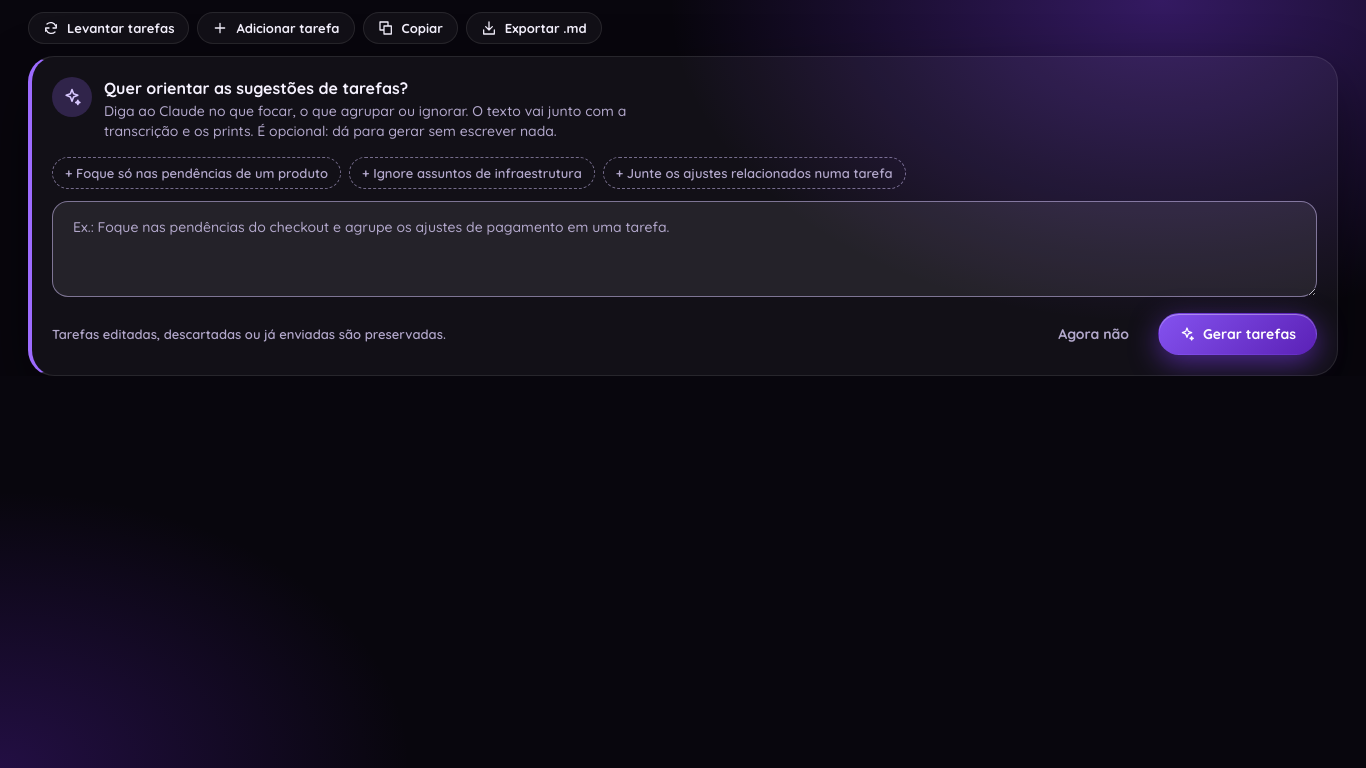
Scenario: TasksTab › 'Agora não' esconde a caixa e deixa o contexto recolhido, preservando o texto
The image size is (1366, 768).
Replace the text in the text box labelled "Quer orientar as sugestões de tarefas?" with "Foque no checkout." at (684, 249), box [52, 201, 1317, 297]
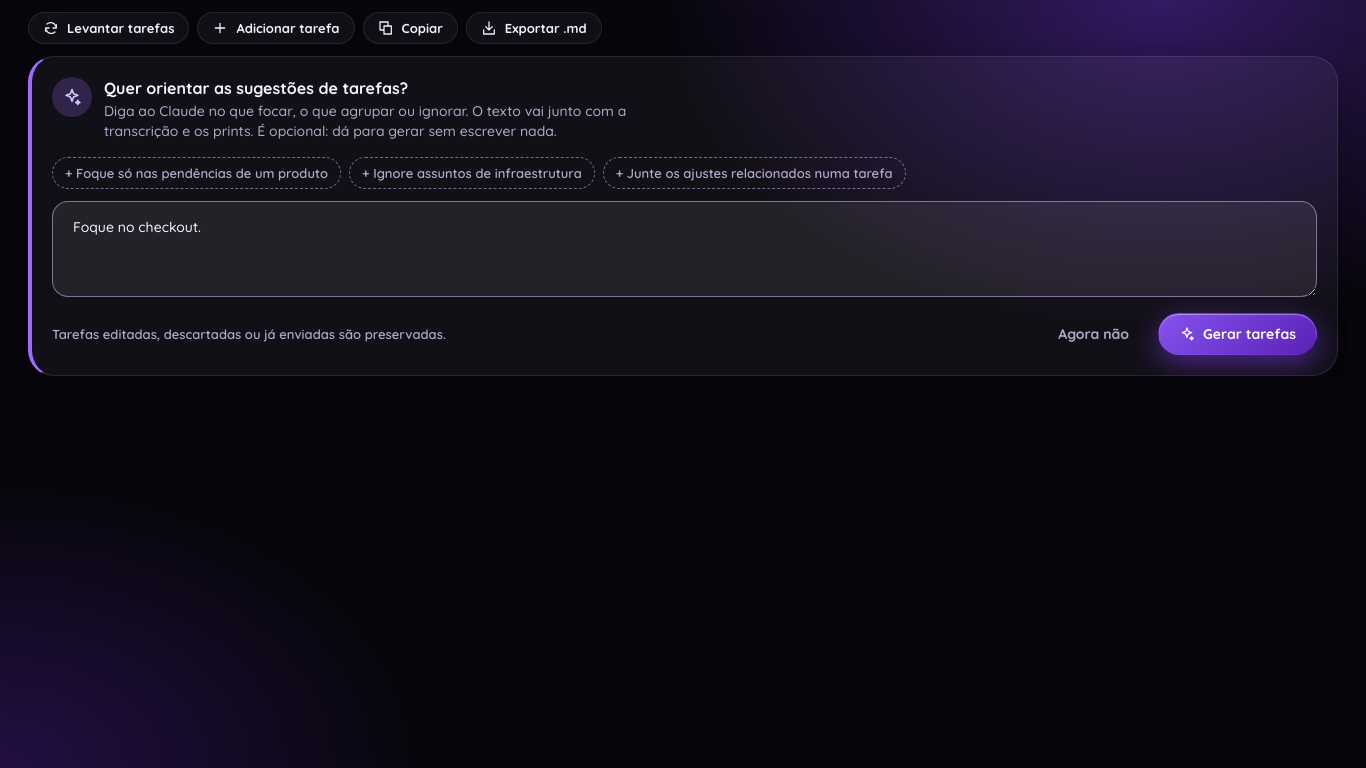
Click the button "Agora não".
click(1094, 334)  # box [1037, 313, 1150, 355]
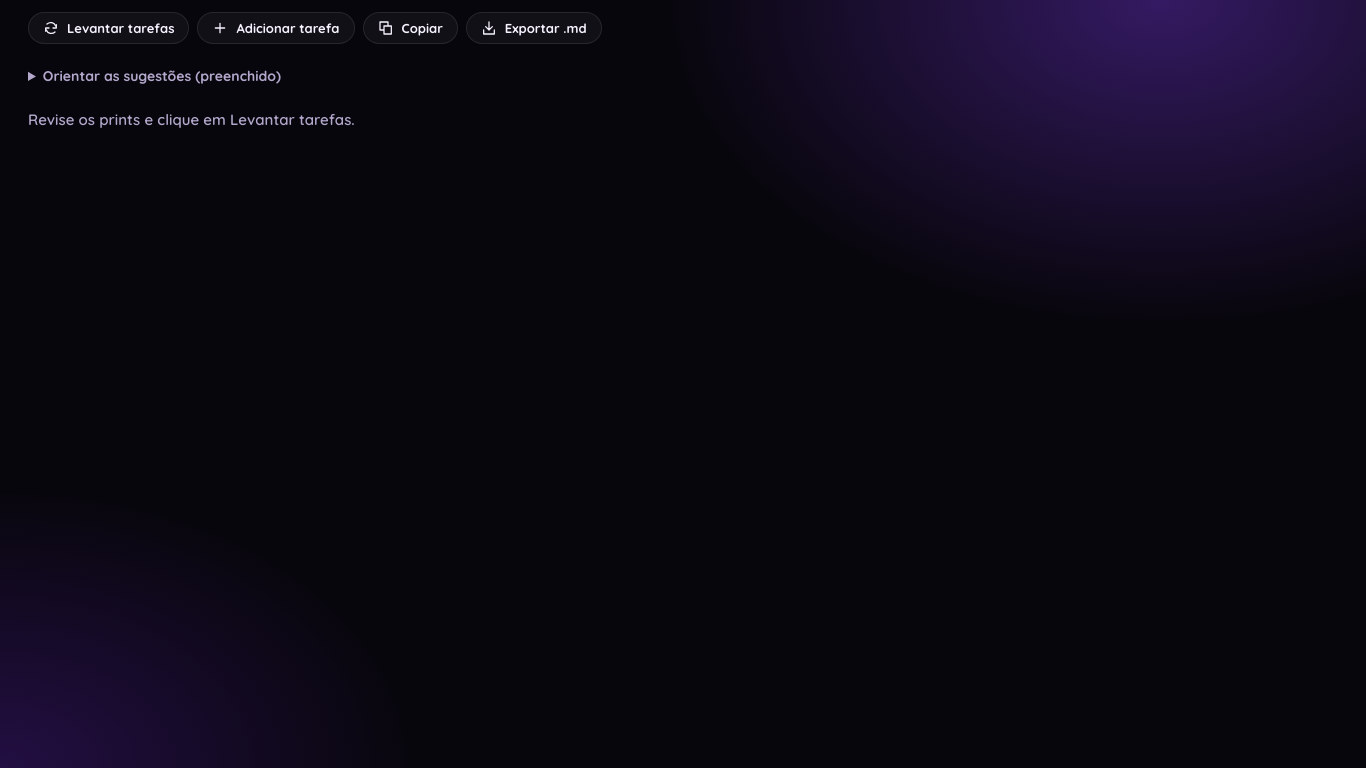
Result: the text "Quer orientar as sugestões de tarefas?" is gone
Result: the heading "Orientar as sugestões (preenchido)" is shown at [43, 67, 281, 85]
Result: the text "Revise os prints e clique em Levantar tarefas." is shown at [28, 110, 355, 129]
